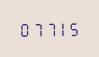five: (66, 19, 77, 36)
one: (54, 19, 65, 36)
seven: (30, 20, 41, 37), (42, 20, 53, 36)
zero: (18, 20, 29, 37)
